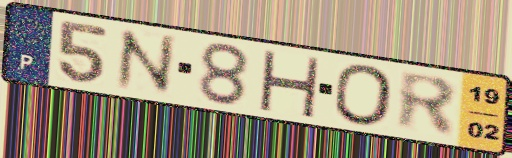5: (57, 17, 111, 86)
8: (195, 40, 252, 107)
H: (255, 47, 323, 120)
N: (113, 26, 177, 96)
O: (332, 63, 396, 129)
R: (395, 68, 460, 141)
